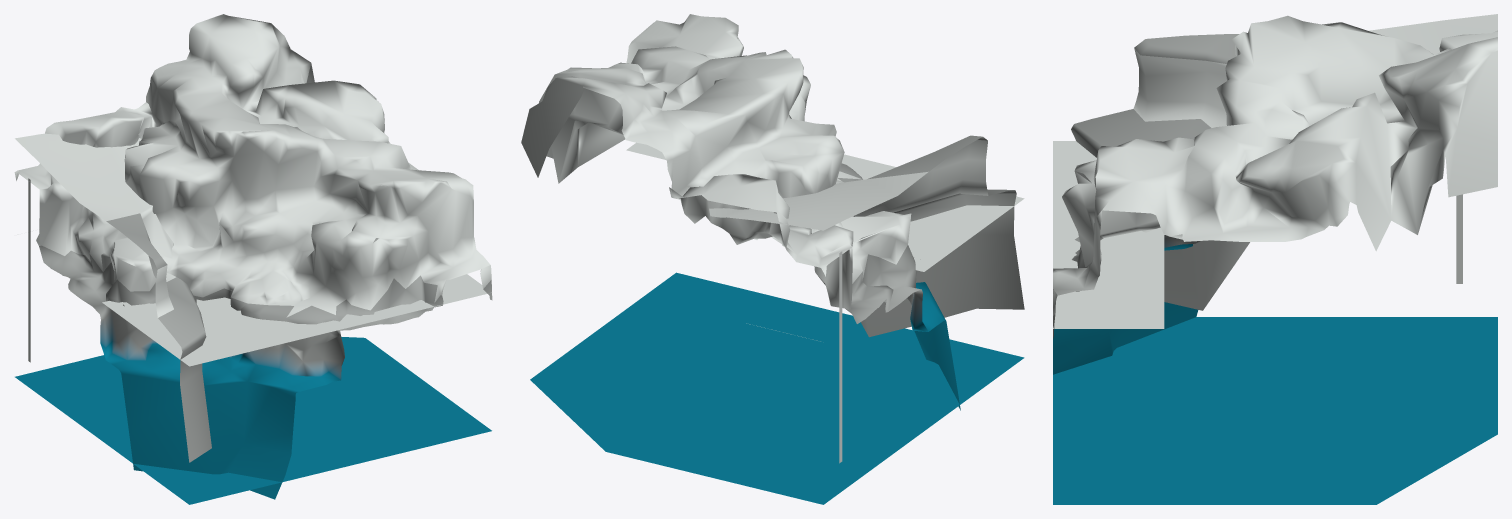
The picture shows the model from 3 angles, left to right: view 1: azimuth 30°, elevation 25°; view 2: azimuth 150°, elevation 25°; view 3: azimuth 270°, elevation 25°; orthographic projection. The views are drawn at different scales.
Parts seen in each view (by area): view 1: G:\FFXIV-MapTools\exports\s1f6\bg\ffxiv\sea_s1\fld\s1f6\bgpl (×12); view 2: G:\FFXIV-MapTools\exports\s1f6\bg\ffxiv\sea_s1\fld\s1f6\bgpl (×11); view 3: G:\FFXIV-MapTools\exports\s1f6\bg\ffxiv\sea_s1\fld\s1f6\bgpl (×10).
Boxes of the visible parts, bbox=[...] form: G:\FFXIV-MapTools\exports\s1f6\bg\ffxiv\sea_s1\fld\s1f6\bgpl (×12): bbox=[14, 14, 492, 504]; G:\FFXIV-MapTools\exports\s1f6\bg\ffxiv\sea_s1\fld\s1f6\bgpl (×11): bbox=[521, 14, 1024, 504]; G:\FFXIV-MapTools\exports\s1f6\bg\ffxiv\sea_s1\fld\s1f6\bgpl (×10): bbox=[1053, 14, 1497, 504].
Bounding box in the file's own units: 128 × 132 × 128.
